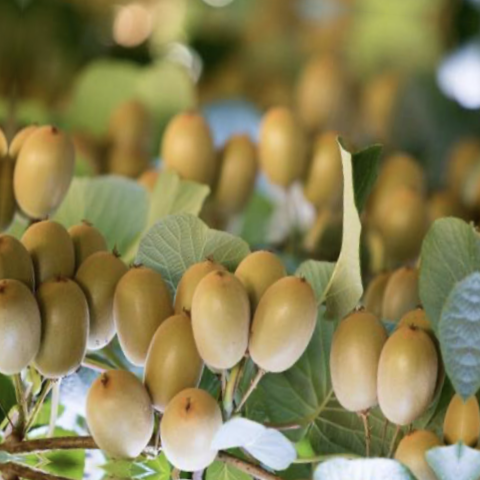kiwi: (236, 260, 324, 402), (12, 253, 101, 393), (314, 303, 401, 426), (74, 356, 161, 467), (184, 270, 267, 384), (4, 116, 81, 232), (372, 313, 444, 435)
